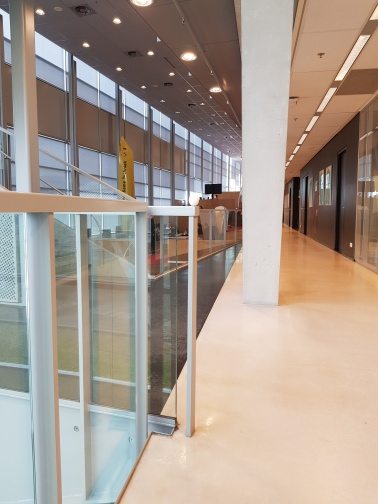egg: (188, 192, 202, 206)
